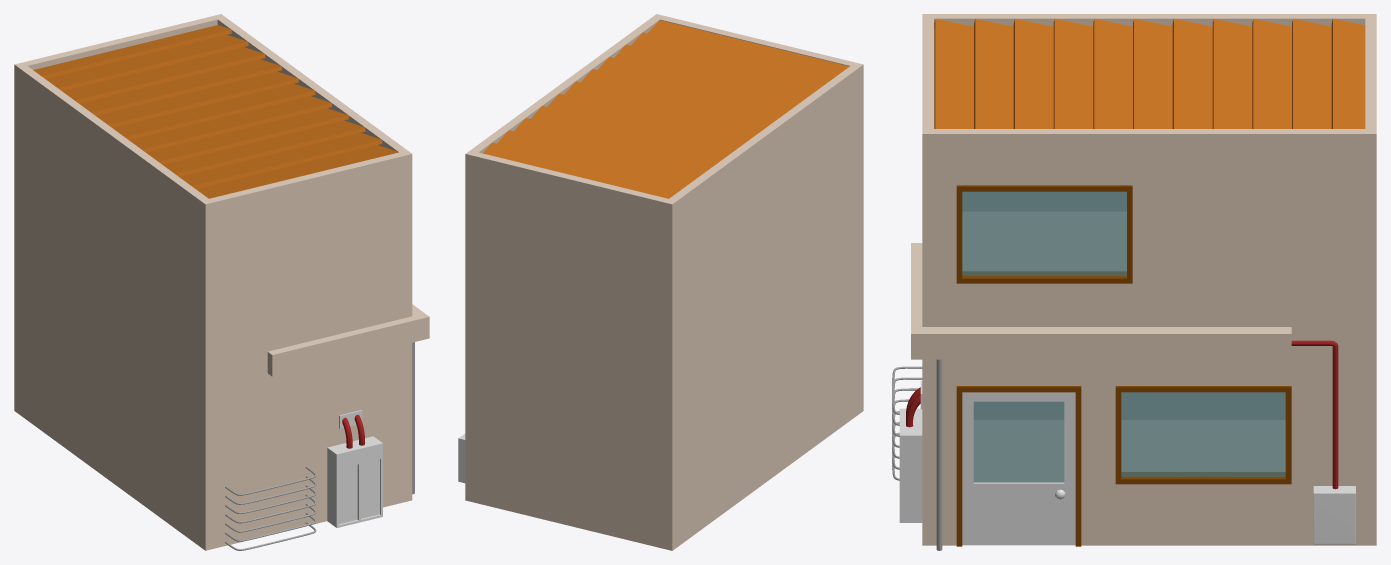
The model's file is House1.fbx.
The picture shows the model from 3 angles, left to right: view 1: azimuth 30°, elevation 25°; view 2: azimuth 150°, elevation 25°; view 3: azimuth 270°, elevation 25°; orthographic projection. The views are drawn at different scales.
Parts seen in each view (by area): view 1: pCube80, pCube92, polySurface24, pCube2, pCylinder23; view 2: pCube80, pCube92; view 3: pCube80, pCube92, polySurface16, polySurface22, pCube2, polySurface18, polySurface19, polySurface21, polySurface15, polySurface20, polySurface24, pCube93 (+3 smaller).
Boxes of the visible parts, <box> form: pCube80: <box>14,14,412,550</box>; pCube92: <box>33,25,398,198</box>; polySurface24: <box>327,436,382,527</box>; pCube2: <box>267,304,429,376</box>; pCylinder23: <box>225,466,316,550</box>; pCube80: <box>465,14,863,550</box>; pCube92: <box>482,20,849,198</box>; pCube80: <box>922,14,1376,545</box>; pCube92: <box>934,19,1365,128</box>; polySurface16: <box>962,191,1126,276</box>; polySurface22: <box>1121,392,1285,476</box>; pCube2: <box>911,243,1291,359</box>; polySurface18: <box>962,392,1075,545</box>; polySurface19: <box>973,401,1064,482</box>; polySurface21: <box>1115,386,1291,484</box>; polySurface15: <box>956,185,1132,283</box>; polySurface20: <box>956,386,1081,546</box>; polySurface24: <box>899,408,922,522</box>; pCube93: <box>1313,486,1355,544</box>.
Size of the model in its own units: 5.38 by 8 by 8.53.
